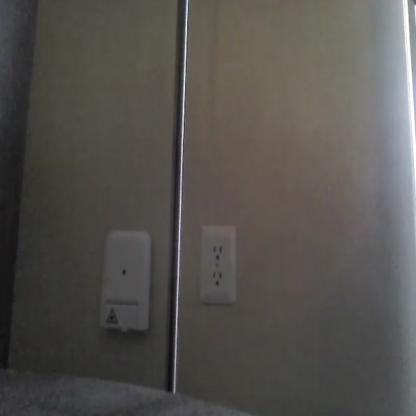OUTLET: (201, 226, 236, 302)
